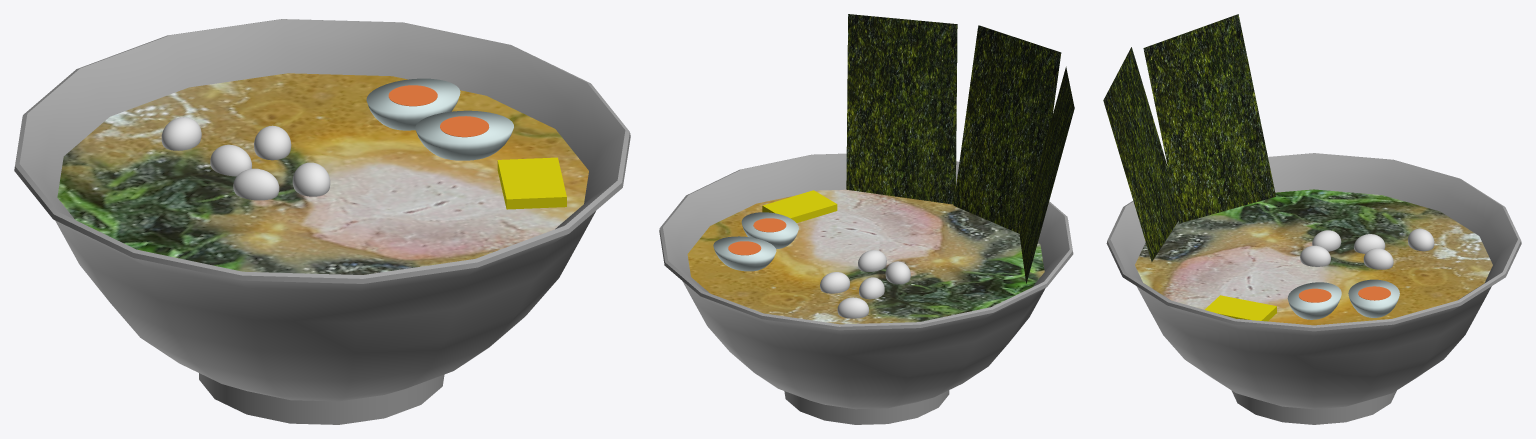
Rendered from ramen.gltf.
3 views of the same model, side by side, from view 1: azimuth 30°, elevation 25°; view 2: azimuth 150°, elevation 25°; view 3: azimuth 270°, elevation 25° (orthographic). The views are drawn at different scales.
Parts seen in each view (by area): view 1: ramen; view 2: ramen; view 3: ramen.
Boxes of the visible parts, x1,y1,x2,y2 form: ramen: (14,19,630,424); ramen: (659,14,1074,424); ramen: (1103,14,1521,424).
Size of the model in its own units: 0.8726 by 0.6806 by 0.8799.
Materials: 7 (2 with a texture image).
